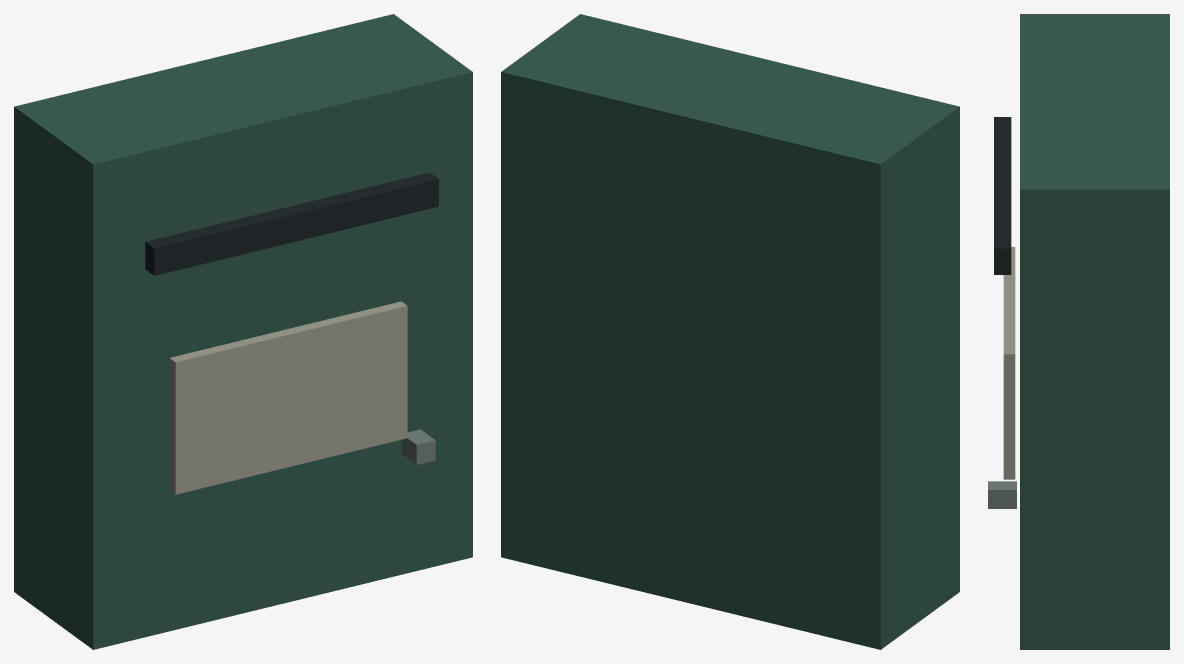
The picture shows the model from 3 angles, left to right: view 1: azimuth 30°, elevation 25°; view 2: azimuth 150°, elevation 25°; view 3: azimuth 270°, elevation 25°; orthographic projection. The views are drawn at different scales.
Visible parts, largest first — view 1: a26; view 2: a26; view 3: a26.
Part boxes in pixels (<box>): a26: <box>14,14,472,649</box>; a26: <box>501,14,959,649</box>; a26: <box>988,14,1169,649</box>.
Bounding box in the file's own units: 0.36 × 0.44 × 0.1575.
